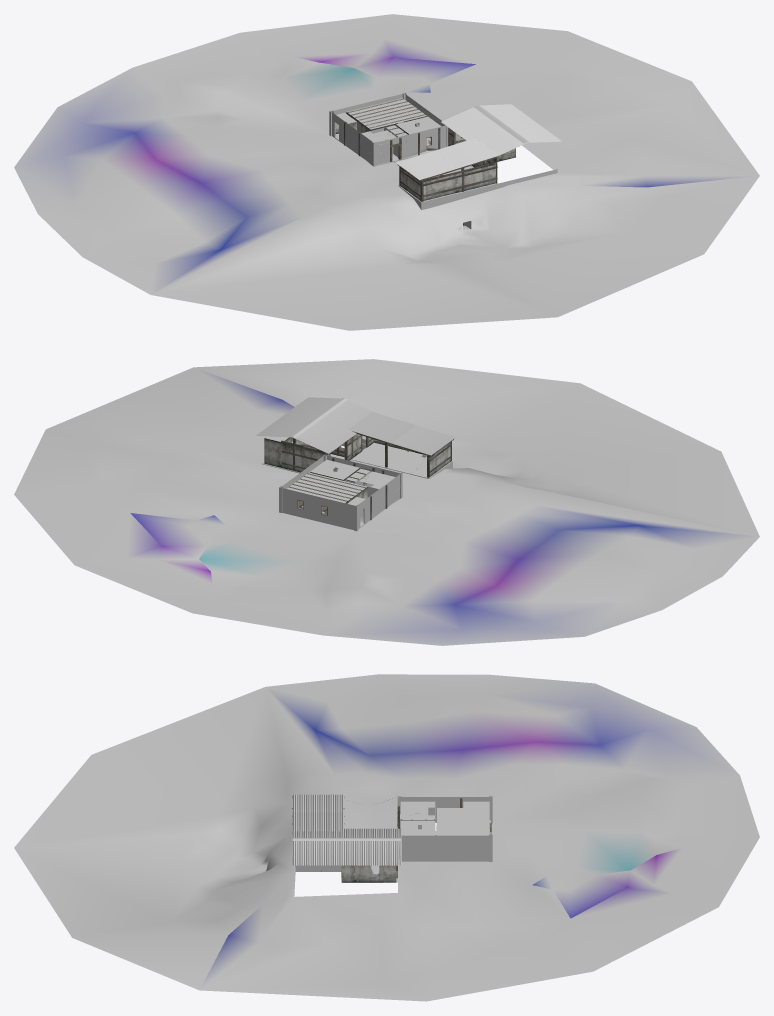
The model's file is Level_C.fbx.
3 renders of one model, top to bottom at view 1: azimuth 30°, elevation 25°; view 2: azimuth 150°, elevation 25°; view 3: azimuth 270°, elevation 25°, orthographic. The views are drawn at different scales.
Visible parts, largest first — view 1: Lansdcape, Hangar, Hangar_Roof_B, House_Walls, Hangar_Roof_A, Main_Room; view 2: Lansdcape, Hangar, Hangar_Roof_B, House_Walls, Hangar_Roof_A, Main_Room, Bathroom, Room; view 3: Lansdcape, Hangar_Roof_B, House_Walls, Hangar_Roof_A, Main_Room, Hangar, Room.
Boxes of the visible parts, x1,y1,x2,y2 form: Lansdcape: [14, 14, 759, 330]; Hangar: [397, 127, 557, 210]; Hangar_Roof_B: [441, 104, 561, 155]; House_Walls: [329, 93, 448, 166]; Hangar_Roof_A: [396, 138, 499, 180]; Main_Room: [346, 98, 427, 133]; Lansdcape: [14, 359, 759, 645]; Hangar: [262, 431, 453, 478]; Hangar_Roof_B: [256, 397, 372, 454]; House_Walls: [279, 454, 402, 531]; Hangar_Roof_A: [349, 412, 455, 455]; Main_Room: [287, 472, 367, 515]; Bathroom: [310, 459, 359, 480]; Room: [356, 463, 400, 497]; Lansdcape: [14, 674, 759, 1001]; Hangar_Roof_B: [292, 828, 401, 865]; House_Walls: [397, 796, 492, 861]; Hangar_Roof_A: [292, 794, 343, 831]; Main_Room: [436, 808, 491, 835]; Hangar: [292, 797, 398, 882]; Room: [397, 797, 435, 828].
Bounding box in the file's own units: 8829 × 880 × 8380.
